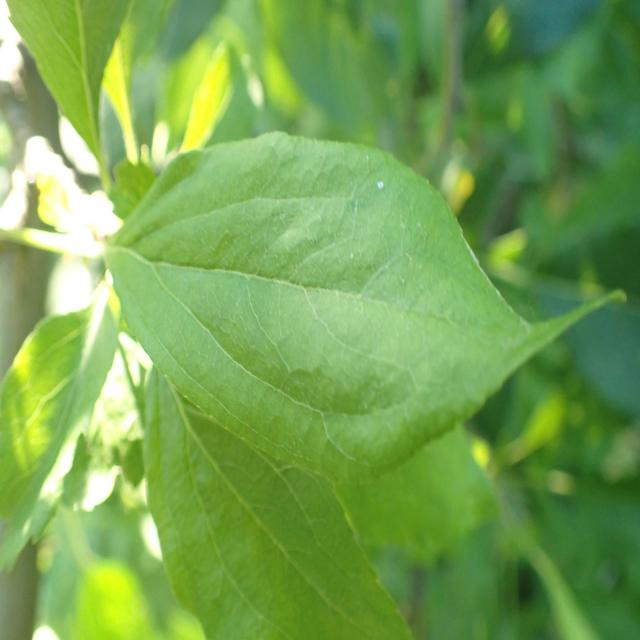healthy: (140, 358, 414, 640), (0, 272, 119, 572), (5, 1, 131, 180)
